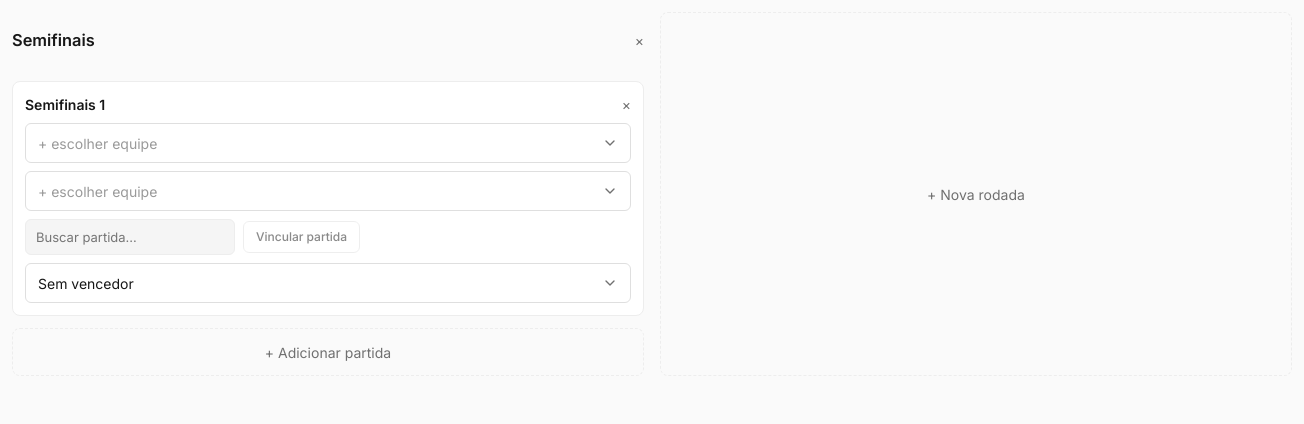
Test case: BracketTab › explains a round that still holds slots
Step 1. Click the button named "Remover Semifinais" → (639,41), box [635, 30, 644, 51]
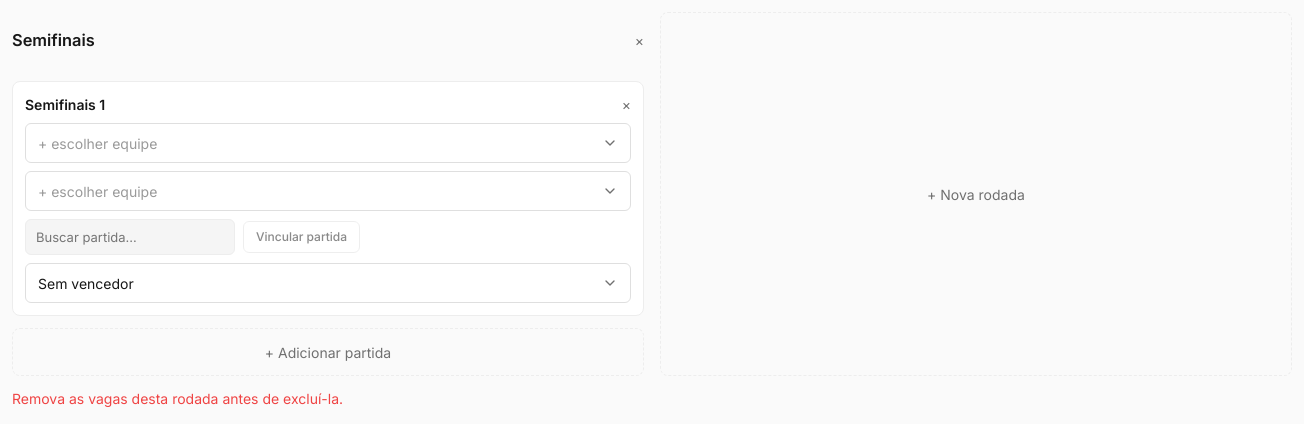
Result: the message reads "Remova as vagas desta rodada antes de excluí-la." at [12, 390, 343, 407]
